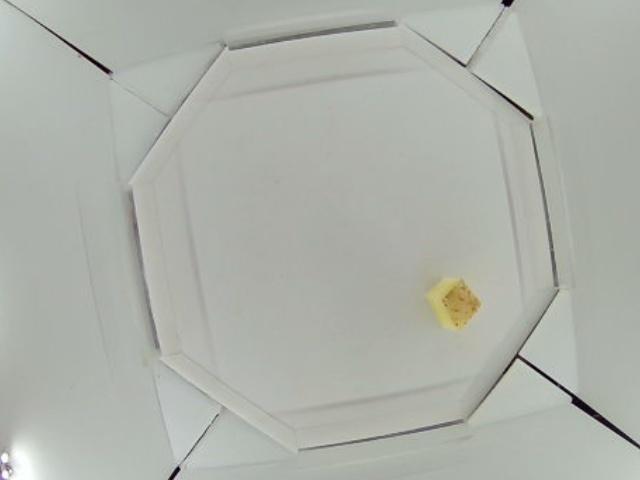Potato: (426, 276, 479, 328)
